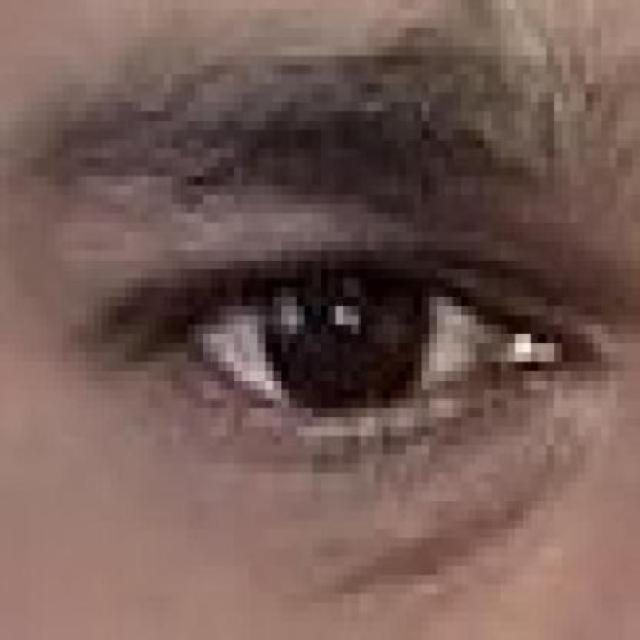awake: (187, 268, 562, 418)
